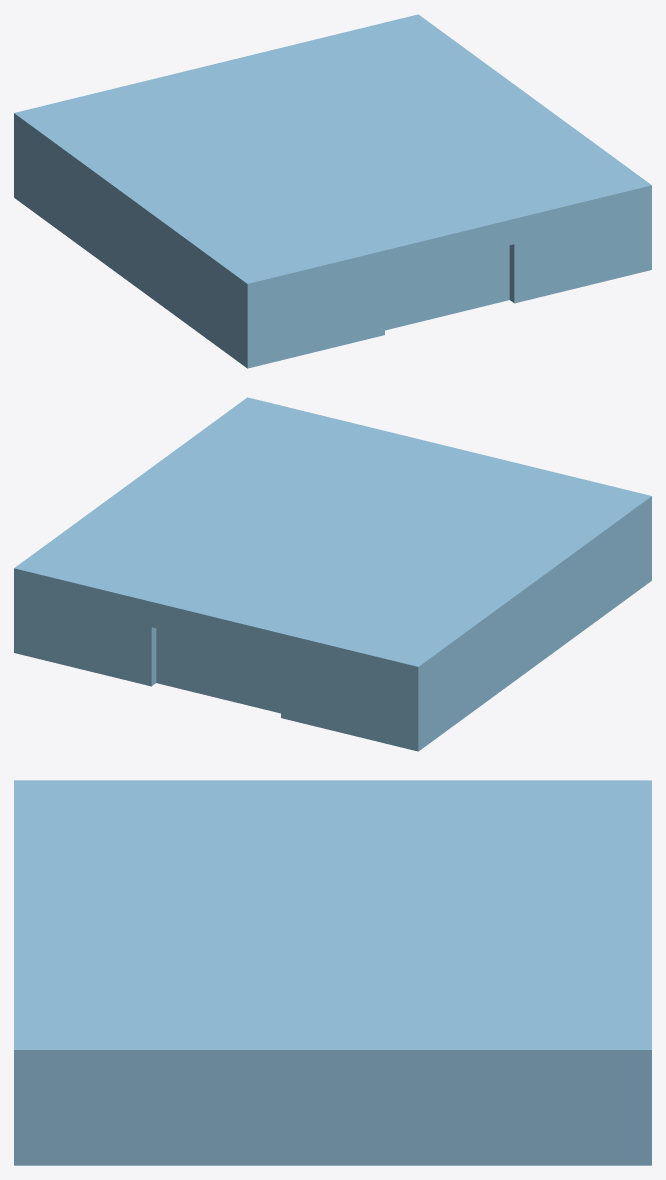
File: Inner_Volume.dae
3 renders of one model, top to bottom at view 1: azimuth 30°, elevation 25°; view 2: azimuth 150°, elevation 25°; view 3: azimuth 270°, elevation 25°, orthographic. The views are drawn at different scales.
Visible parts, largest first — view 1: ID2; view 2: ID2; view 3: ID2.
Boxes of the visible parts, left/top/right/bottom form: ID2: left=14, top=14, right=651, bottom=368; ID2: left=14, top=397, right=651, bottom=751; ID2: left=14, top=780, right=651, bottom=1165.
Size of the model in its own units: 50 by 50 by 10.
